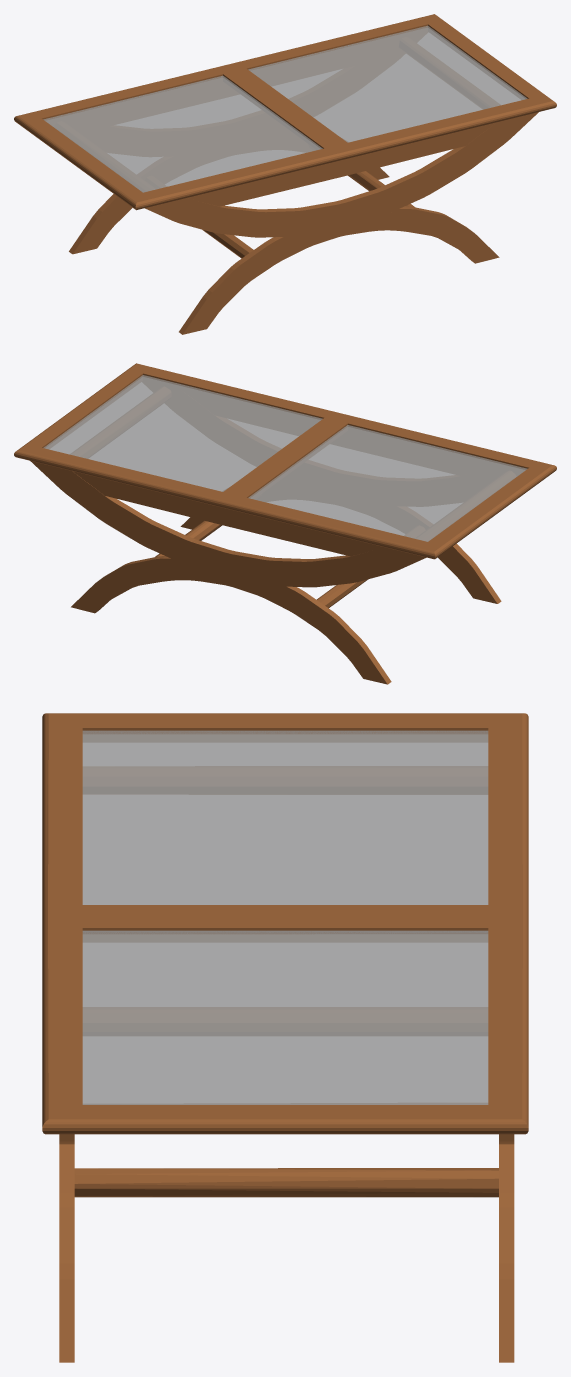
Rendered from table-by-cmht-oculus-asZ_nKHursY.glb.
3 views of the same model, one above another, from view 1: azimuth 30°, elevation 25°; view 2: azimuth 150°, elevation 25°; view 3: azimuth 270°, elevation 25° (orthographic). The views are drawn at different scales.
Visible parts, largest first — view 1: Node; view 2: Node; view 3: Node.
Boxes of the visible parts, left/top/right/bottom form: Node: left=14, top=14, right=556, bottom=334; Node: left=14, top=363, right=556, bottom=684; Node: left=42, top=713, right=528, bottom=1362.
Size of the model in its own units: 47.24 by 15.68 by 23.62.
